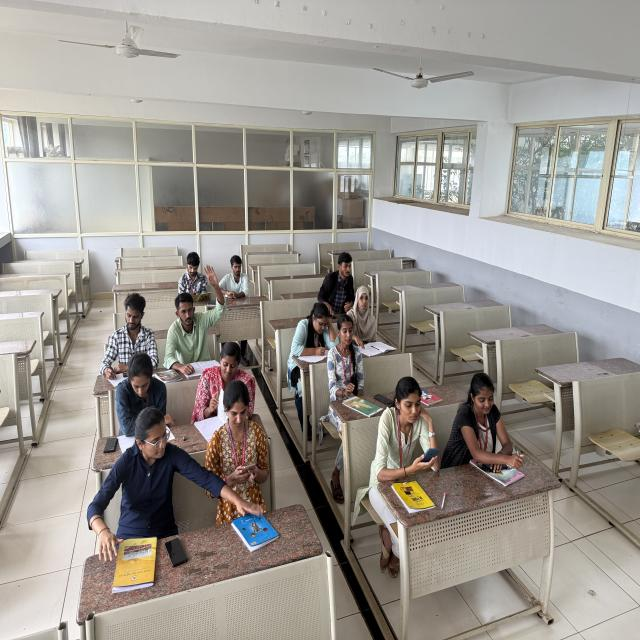Hand Rising: (163, 260, 224, 357)
Reading: (114, 346, 170, 429), (349, 282, 386, 344), (173, 252, 212, 300)
Using Phone: (208, 385, 272, 511), (374, 380, 442, 494)
Writing: (459, 372, 527, 482), (96, 292, 161, 386), (288, 302, 343, 367)
